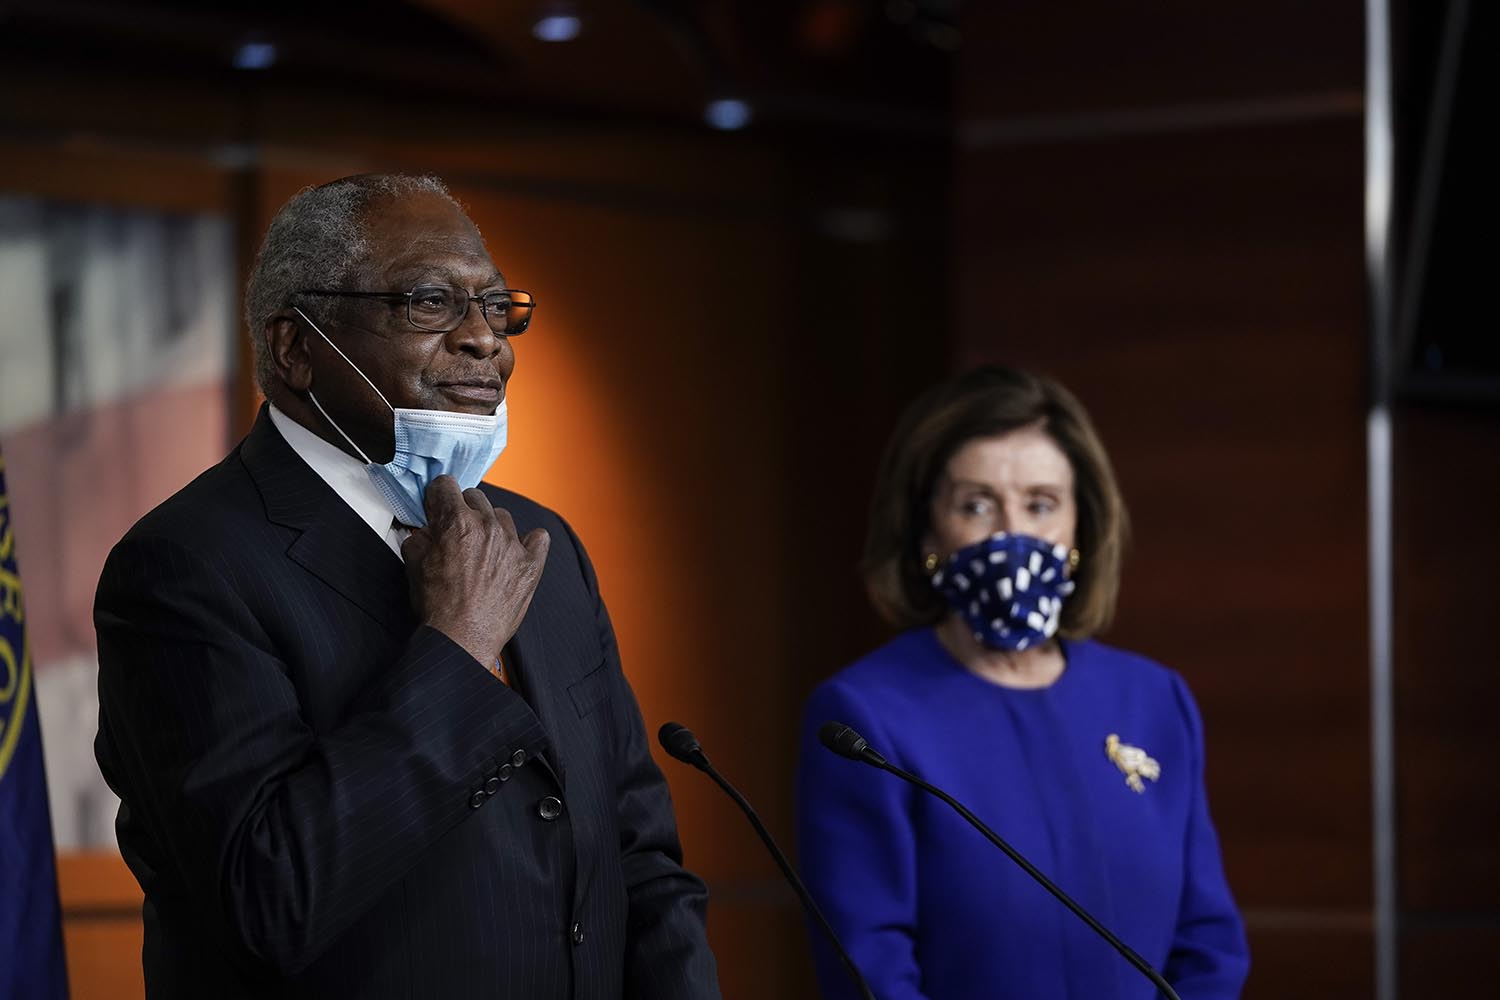with_incorrect_mask: (359, 220, 524, 492)
with_mask: (939, 447, 1076, 631)
